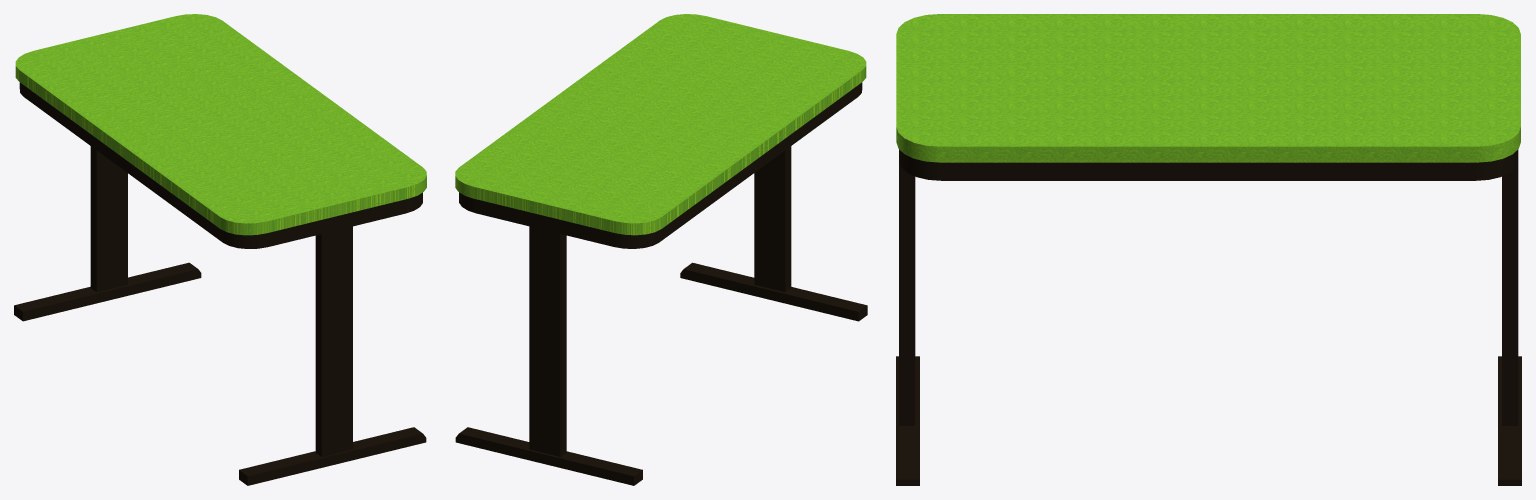
Rendered from mr_desk.fbx.
3 renders of one model, left to right at view 1: azimuth 30°, elevation 25°; view 2: azimuth 150°, elevation 25°; view 3: azimuth 270°, elevation 25°, orthographic. The views are drawn at different scales.
Visible parts, largest first — view 1: pCube36; view 2: pCube36; view 3: pCube36.
Part boxes in pixels (bbox=[...]): pCube36: bbox=[14, 14, 426, 485]; pCube36: bbox=[455, 14, 867, 485]; pCube36: bbox=[896, 14, 1521, 485].
Size of the model in its own units: 60.56 by 74.08 by 121.
Materials: 2 (1 with a texture image).
